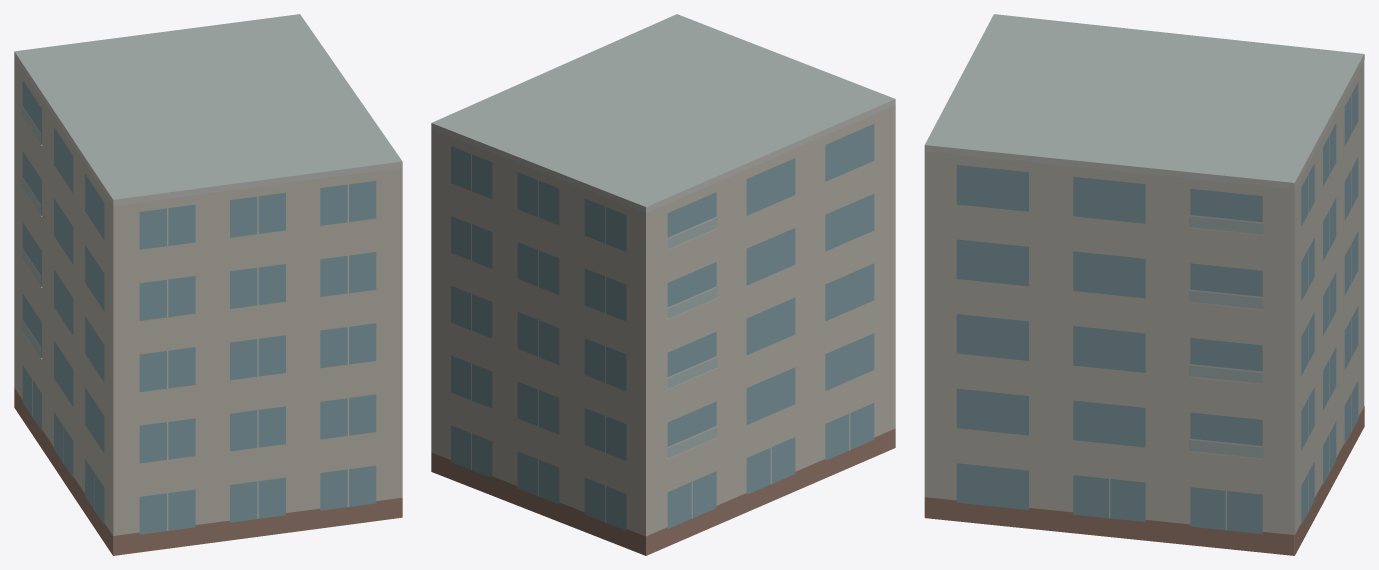
Rendered from survey-upis-32741694.glb.
The picture shows the model from 3 angles, left to right: view 1: azimuth 30°, elevation 25°; view 2: azimuth 150°, elevation 25°; view 3: azimuth 270°, elevation 25°; orthographic projection. The views are drawn at different scales.
Parts seen in each view (by area): view 1: survey-upis-32741694.tmp; view 2: survey-upis-32741694.tmp; view 3: survey-upis-32741694.tmp.
Boxes of the visible parts, x1,y1,x2,y2 form: survey-upis-32741694.tmp: (14,14,402,555); survey-upis-32741694.tmp: (431,14,895,555); survey-upis-32741694.tmp: (924,14,1364,555).
Bounding box in the file's own units: 13.8 × 14.2 × 15.19.
